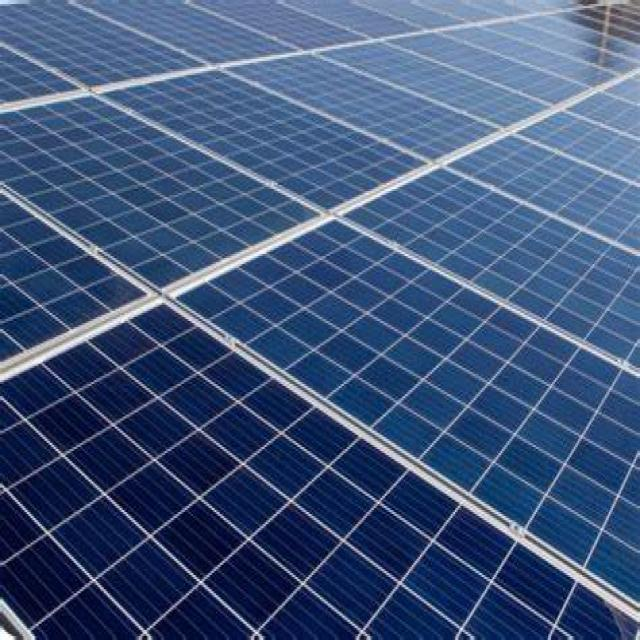clean: (2, 0, 636, 639)
